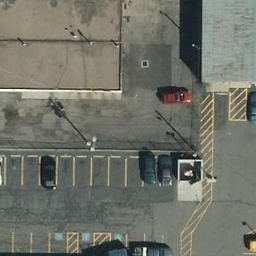car: (159, 87, 194, 106), (40, 158, 58, 190), (158, 155, 173, 187), (142, 152, 155, 186)
